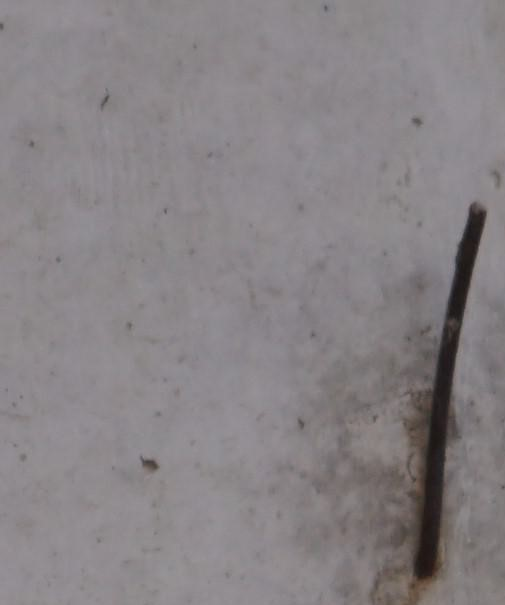Exposed reinforcement: (412, 200, 489, 582)
